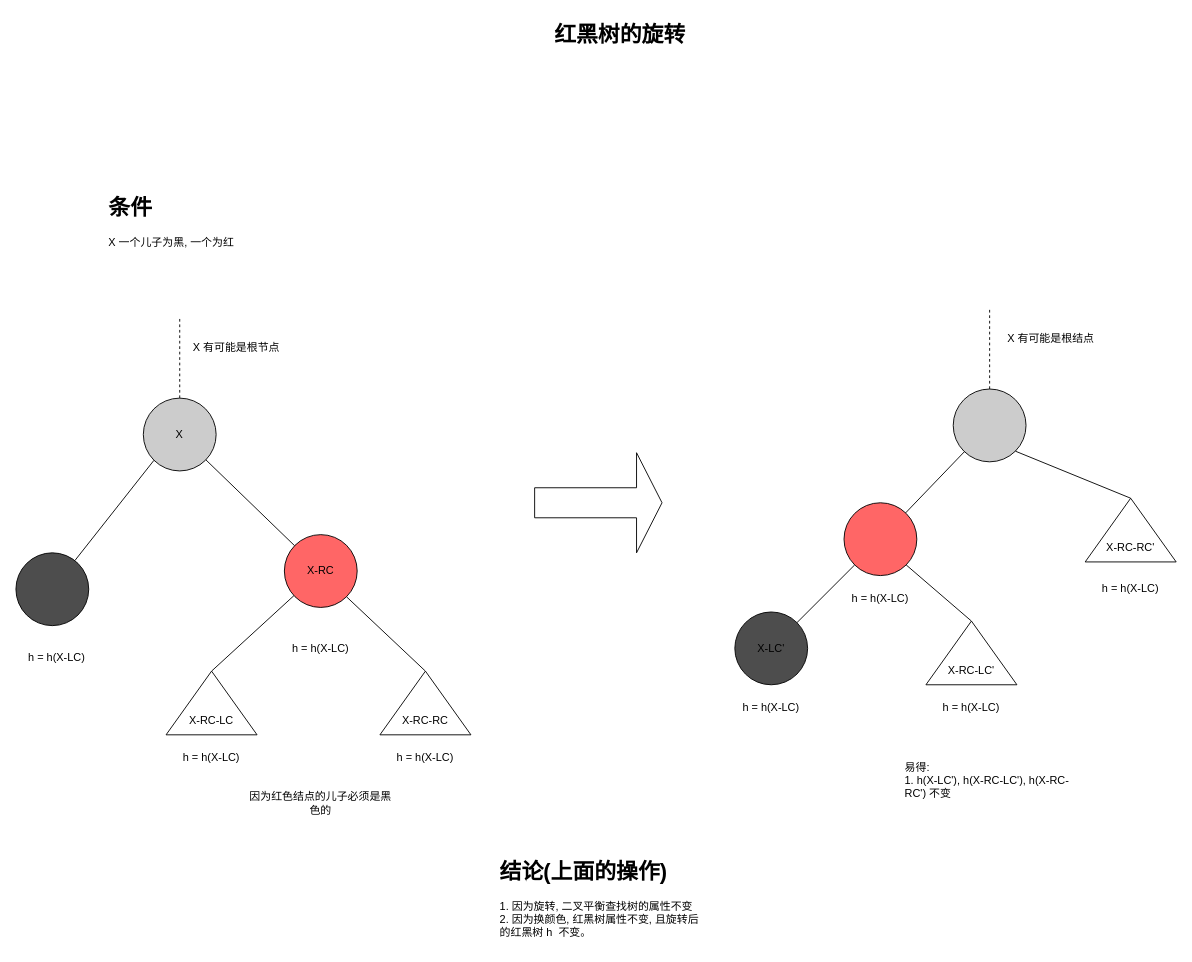
The diagram is 1192 pixels wide and 962 high, and some of its shapes have lost their labels. The shapes that lost their labels are listed below. From the top down, each one's centre as x and y in pixels, then its label:
At point (989, 425): "X-RC'".
At point (598, 502): "对X左旋 X 和 X-RC 交换颜色".
At point (880, 539): "X'".
At point (52, 589): "X-LC".
